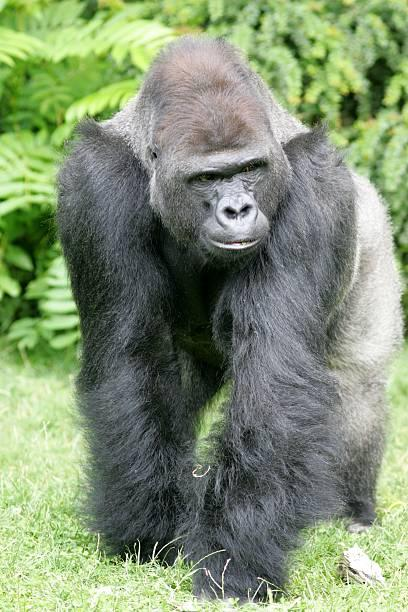gorille_Autres: (0, 0, 372, 612)
